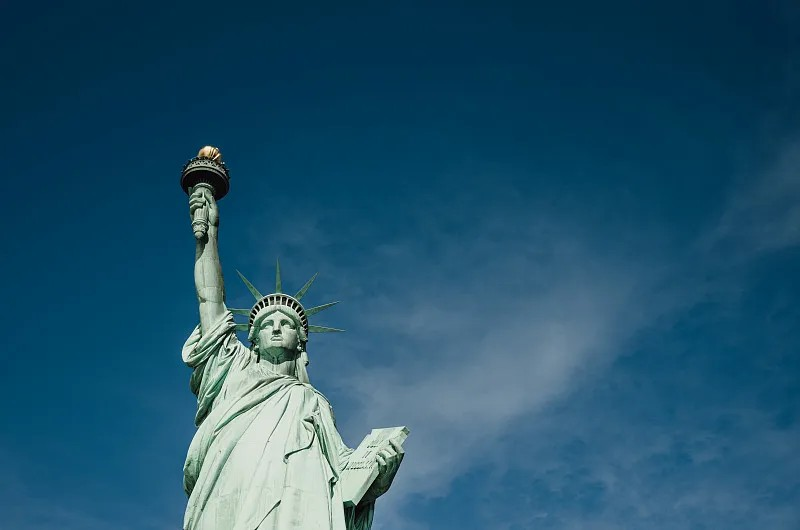SL: (181, 146, 410, 530)
